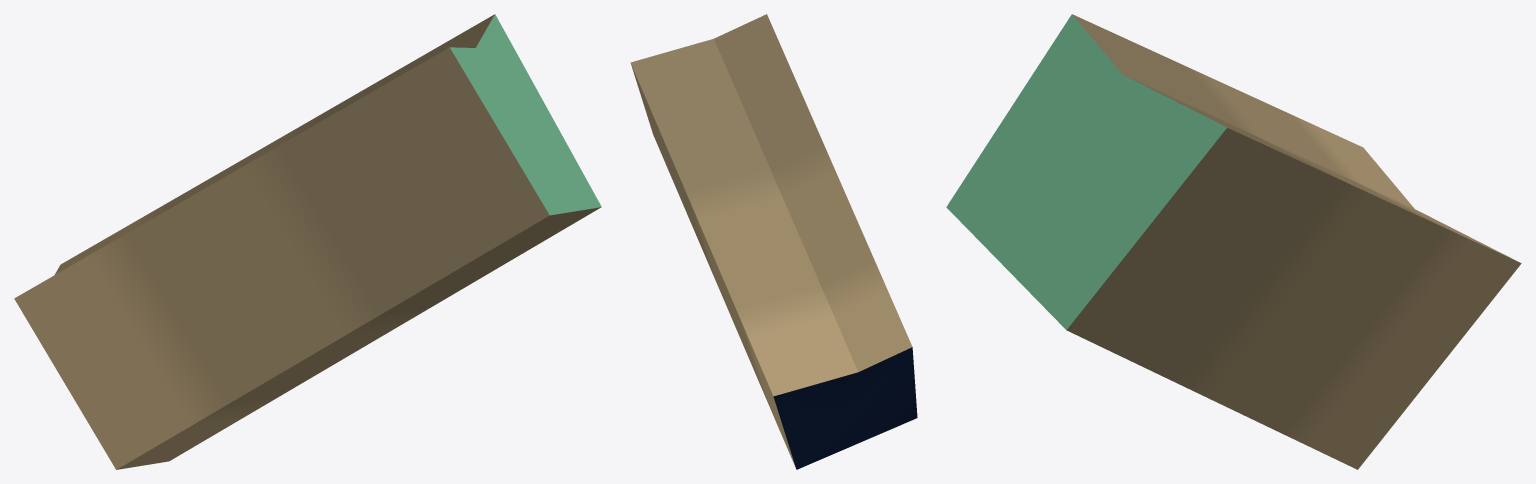
Rendered from 0621_Bahrain.glb.
3 renders of one model, left to right at view 1: azimuth 30°, elevation 25°; view 2: azimuth 150°, elevation 25°; view 3: azimuth 270°, elevation 25°, orthographic. The views are drawn at different scales.
Parts seen in each view (by area): view 1: part_0; view 2: part_0; view 3: part_0.
Part boxes in pixels (x1,y1,x2,y2): part_0: [14, 14, 601, 469]; part_0: [630, 14, 917, 469]; part_0: [946, 14, 1521, 469].
Size of the model in its own units: 0.2029 by 0.1946 by 0.1853.
1 material, 1 textured.
